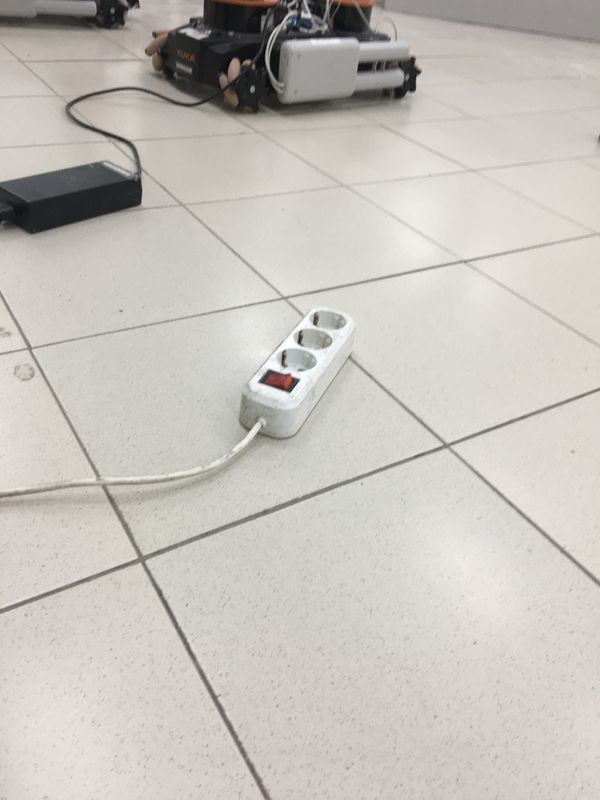socket: (228, 300, 360, 445)
